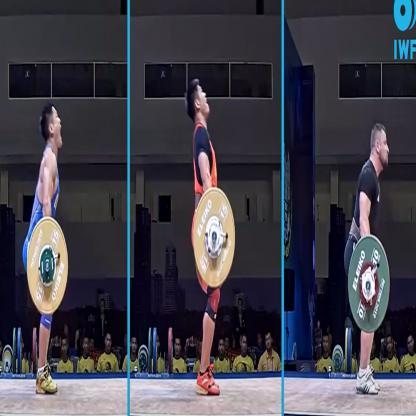Barbell: (209, 218, 224, 255), (41, 249, 56, 283), (364, 275, 377, 302)
